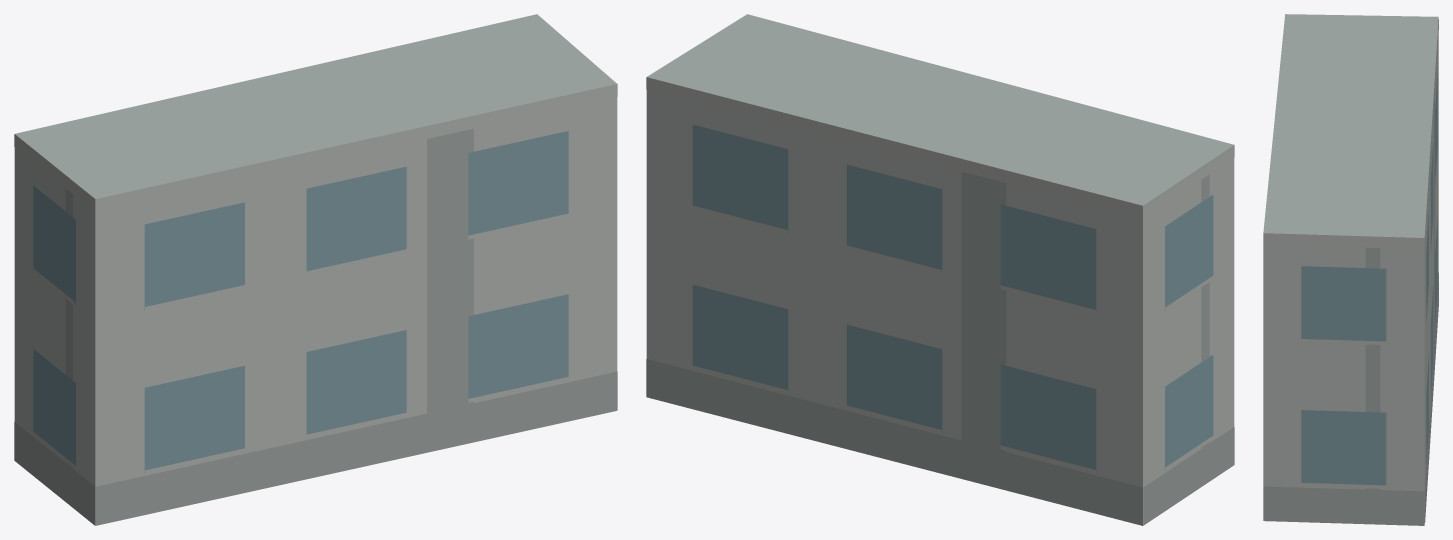
File: survey-upis-32639687.glb
3 renders of one model, left to right at view 1: azimuth 30°, elevation 25°; view 2: azimuth 150°, elevation 25°; view 3: azimuth 270°, elevation 25°, orthographic. The views are drawn at different scales.
Visible parts, largest first — view 1: survey-upis-32639687.tmp; view 2: survey-upis-32639687.tmp; view 3: survey-upis-32639687.tmp.
Boxes of the visible parts, box(x1,y1,x2,y2) form: survey-upis-32639687.tmp: box(14, 14, 617, 525); survey-upis-32639687.tmp: box(646, 14, 1234, 525); survey-upis-32639687.tmp: box(1263, 14, 1438, 525).
Bounding box in the file's own units: 10.19 × 6.1 × 3.38.
